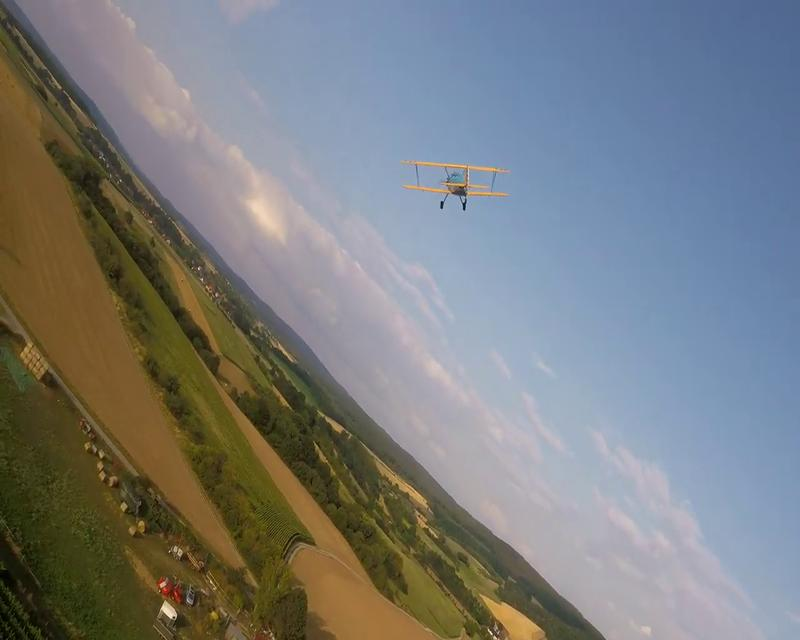UAV: (400, 157, 510, 213)
